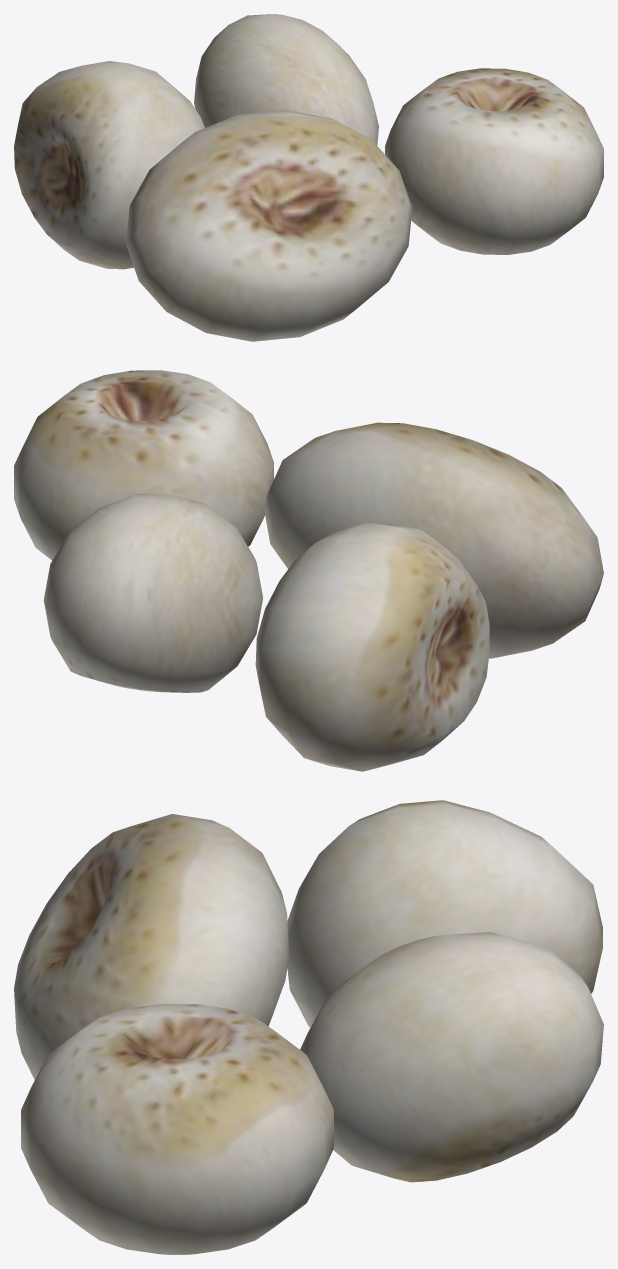
File: banxia.FBX
3 renders of one model, top to bottom at view 1: azimuth 30°, elevation 25°; view 2: azimuth 150°, elevation 25°; view 3: azimuth 270°, elevation 25°, orthographic. The views are drawn at different scales.
Parts seen in each view (by area): view 1: Sphere001, Sphere004, Sphere003, Sphere002; view 2: Sphere003, Sphere001, Sphere002, Sphere004; view 3: Sphere004, Sphere002, Sphere001, Sphere003.
Boxes of the visible parts, left/top/right/bottom form: Sphere001: left=126, top=110, right=412, bottom=341; Sphere004: left=385, top=68, right=603, bottom=254; Sphere003: left=14, top=61, right=204, bottom=269; Sphere002: left=194, top=14, right=378, bottom=145; Sphere003: left=255, top=522, right=489, bottom=771; Sphere001: left=264, top=422, right=603, bottom=658; Sphere002: left=43, top=493, right=262, bottom=692; Sphere004: left=14, top=370, right=273, bottom=560; Sphere004: left=21, top=1004, right=333, bottom=1254; Sphere002: left=300, top=932, right=603, bottom=1182; Sphere001: left=14, top=814, right=289, bottom=1079; Sphere003: left=287, top=800, right=602, bottom=1027.
Bounding box in the file's own units: 403 × 162 × 330.
2 materials, 2 textured.
